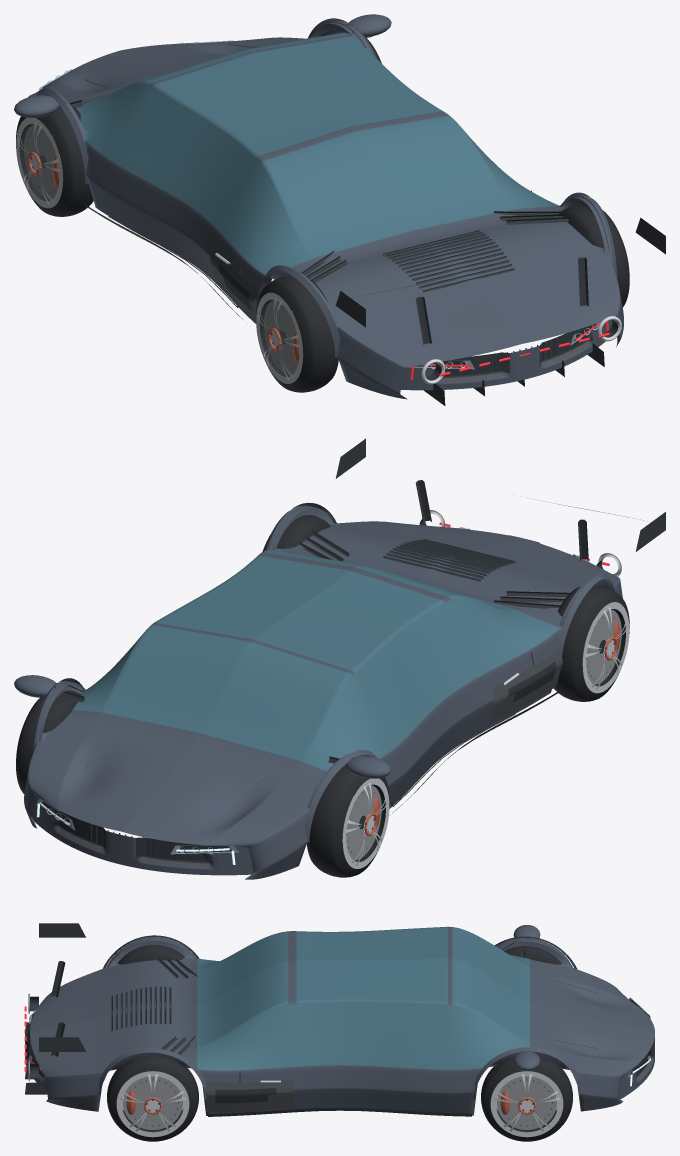
The model's file is nebula_r.glb.
3 renders of one model, top to bottom at view 1: azimuth 30°, elevation 25°; view 2: azimuth 150°, elevation 25°; view 3: azimuth 270°, elevation 25°, orthographic. The views are drawn at different scales.
Parts seen in each view (by area): view 1: Body, Wheel_2, Wheel_0, Wheel_3; view 2: Body, Wheel_0, Wheel_2, Wheel_1, Wheel_3; view 3: Body, Wheel_3, Wheel_1, Wheel_2, Wheel_0.
Part boxes in pixels (x1=…): Body: x1=14, y1=14, x2=665, y2=405; Wheel_2: x1=256, y1=276, x2=338, y2=392; Wheel_0: x1=16, y1=105, x2=93, y2=216; Wheel_3: x1=559, y1=205, x2=629, y2=307; Body: x1=14, y1=438, x2=665, y2=879; Wheel_0: x1=306, y1=765, x2=389, y2=877; Wheel_2: x1=553, y1=585, x2=629, y2=701; Wheel_1: x1=16, y1=690, x2=80, y2=793; Wheel_3: x1=262, y1=515, x2=330, y2=551; Body: x1=24, y1=923, x2=654, y2=1116; Wheel_3: x1=107, y1=1056, x2=198, y2=1141; Wheel_1: x1=481, y1=1056, x2=572, y2=1141; Wheel_2: x1=117, y1=945, x2=184, y2=964; Wheel_0: x1=504, y1=946, x2=561, y2=964.
Size of the model in its own units: 2.63 by 1.08 by 5.09.
